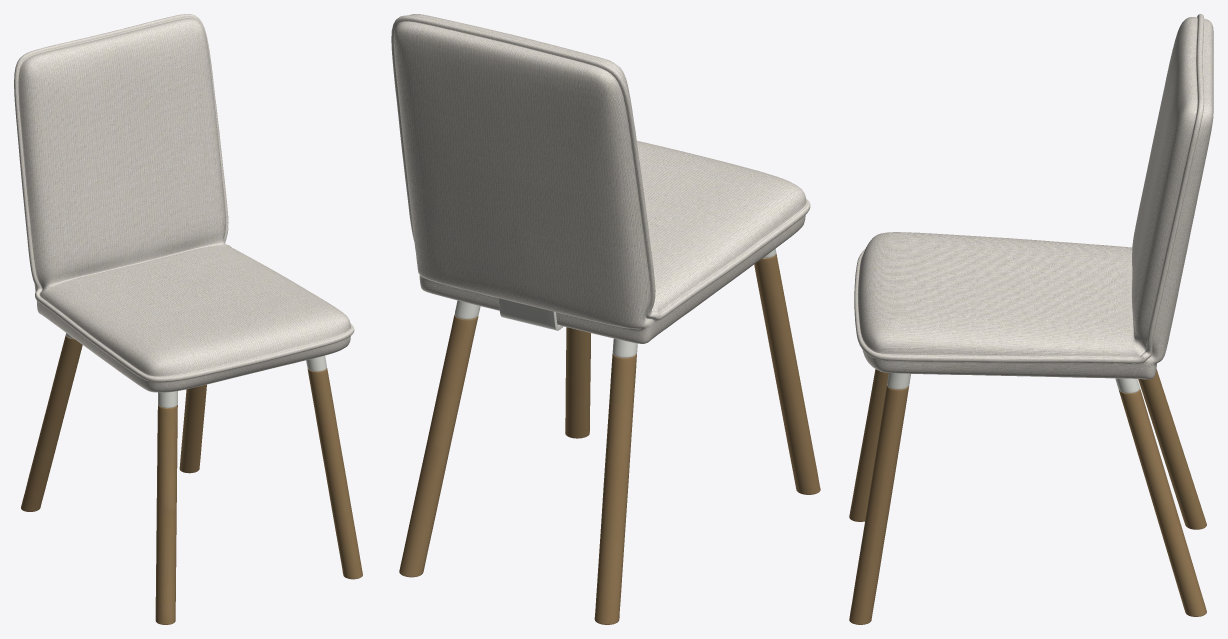
File: 32 - TONSTAD - 餐椅, Fridtuna 淺米色橡木紋 IKEA 線上購物.glb
3 views of the same model, side by side, from view 1: azimuth 30°, elevation 25°; view 2: azimuth 150°, elevation 25°; view 3: azimuth 270°, elevation 25° (orthographic). The views are drawn at different scales.
Visible parts, largest first — view 1: 79599656_chair_001, 79599656_chair_003, 79599656_chair_004; view 2: 79599656_chair_001, 79599656_chair_003, 79599656_chair_004; view 3: 79599656_chair_001, 79599656_chair_003, 79599656_chair_004.
Part boxes in pixels (left/top/right/bottom): 79599656_chair_001: left=14, top=14, right=354, bottom=392; 79599656_chair_003: left=21, top=335, right=362, bottom=624; 79599656_chair_004: left=66, top=333, right=326, bottom=408; 79599656_chair_001: left=391, top=14, right=810, bottom=343; 79599656_chair_003: left=399, top=253, right=820, bottom=624; 79599656_chair_004: left=455, top=249, right=776, bottom=357; 79599656_chair_001: left=854, top=14, right=1213, bottom=379; 79599656_chair_003: left=849, top=369, right=1206, bottom=624; 79599656_chair_004: left=887, top=373, right=1139, bottom=393.
Size of the model in its own units: 0.4199 by 0.8639 by 0.5576.
Materials: 4 (2 with a texture image).
